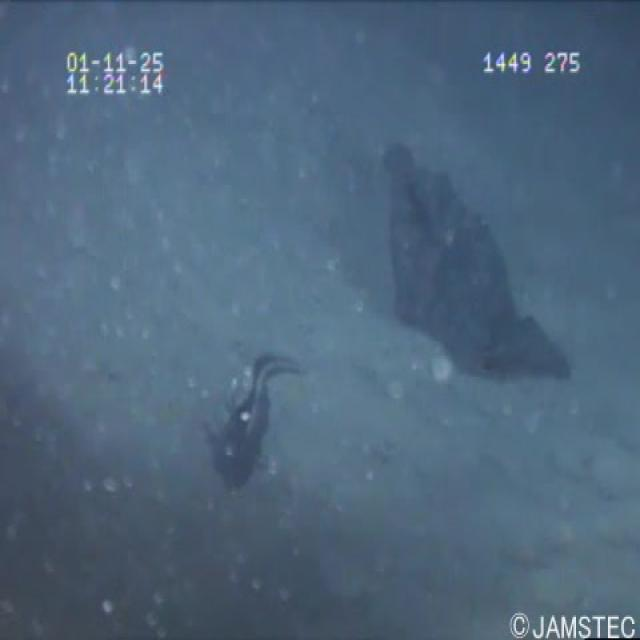plastic: (372, 130, 589, 407)
